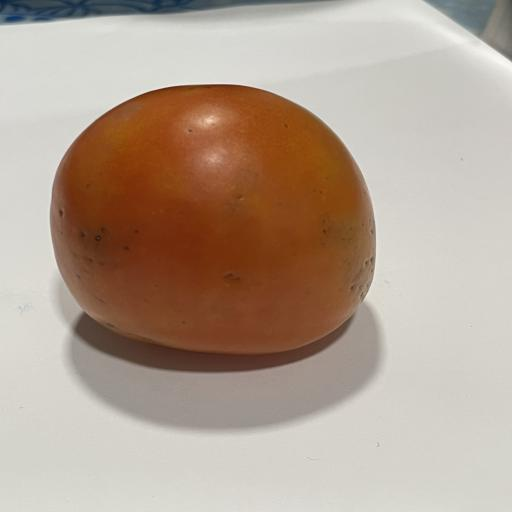unripe: (51, 85, 375, 354)
